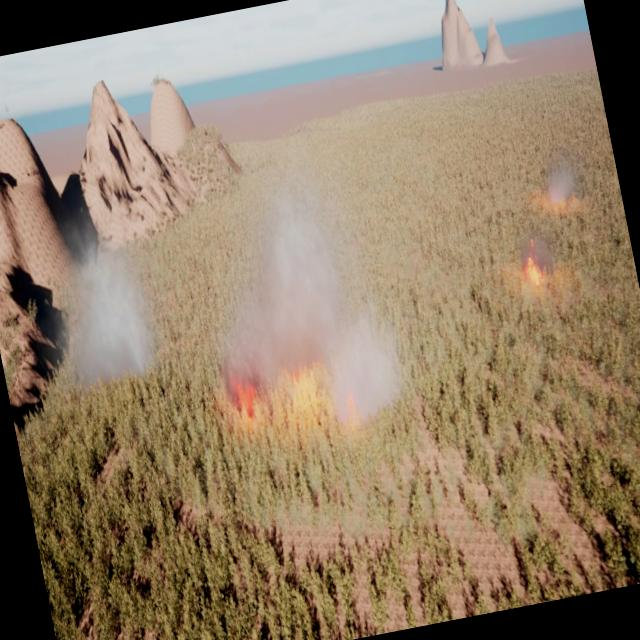fire: (227, 365, 263, 416), (279, 349, 327, 387), (519, 238, 543, 282), (339, 390, 365, 425)
smoke: (187, 138, 414, 450), (38, 205, 170, 388), (540, 161, 580, 213), (514, 216, 552, 266)
